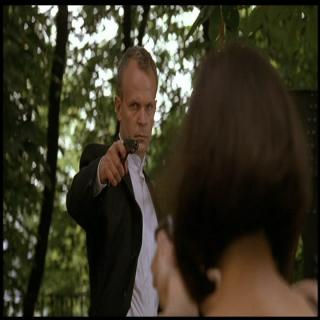gun: (106, 134, 141, 187)
